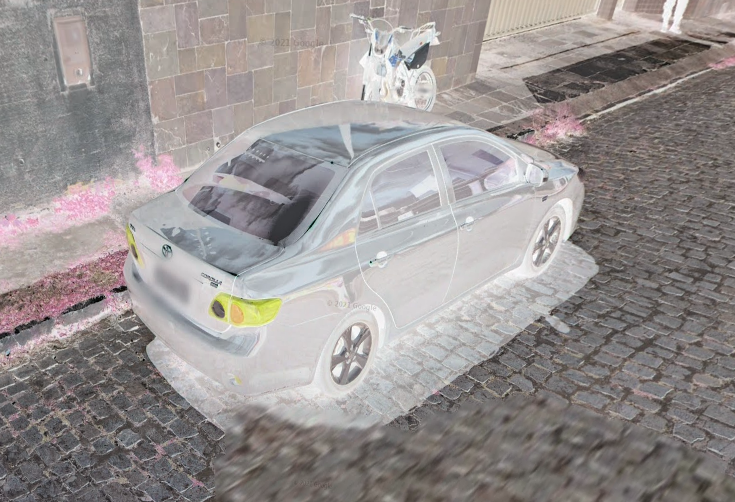car: (115, 95, 587, 400)
